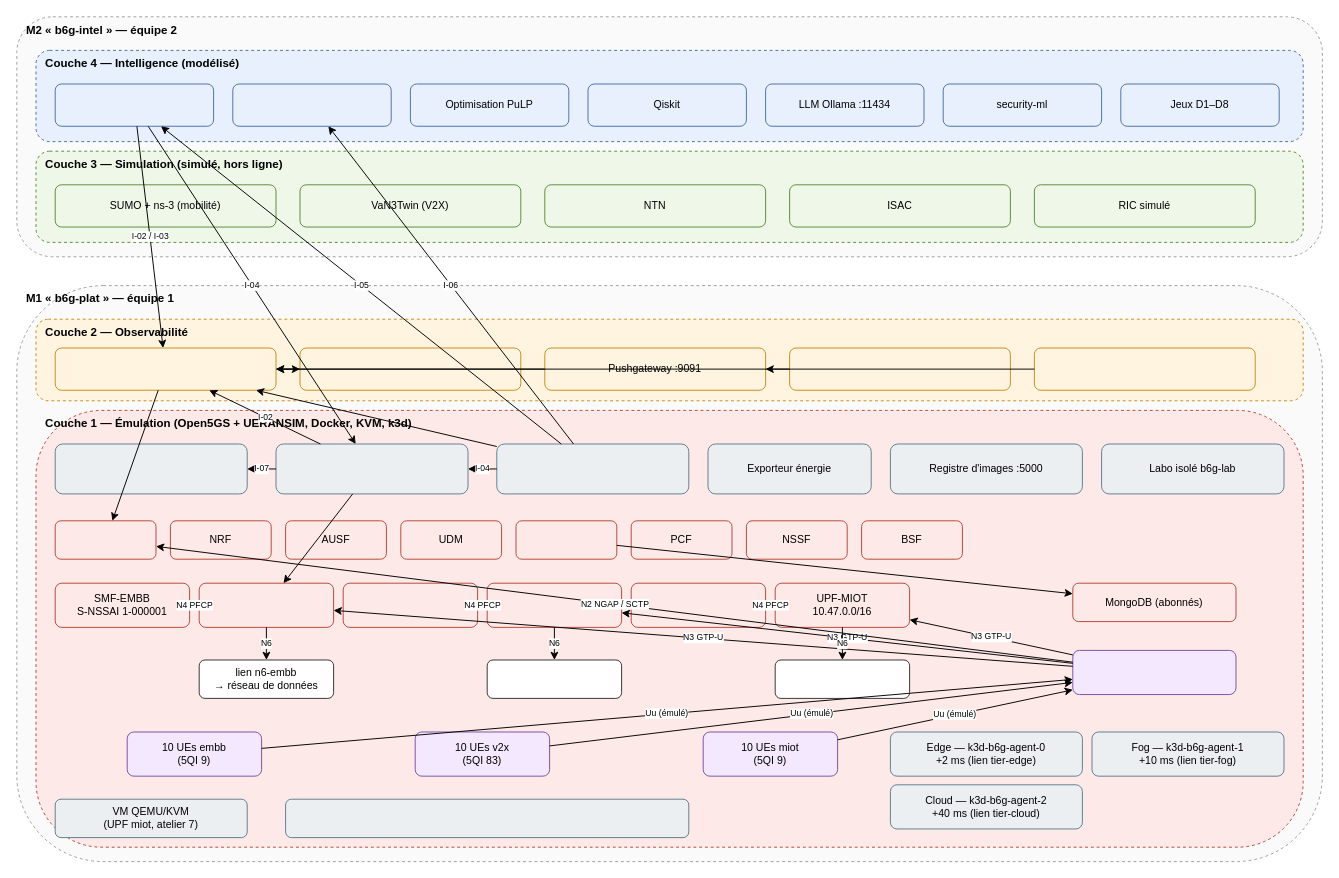
This 1339x878 diagram has some shape labels left out. The shapes that lost their labels are listed below. From the top down, each one's centre as x and y in pixels, then its label:
At (x=134, y=104): "API Décision :8090".
At (x=311, y=104): "API Jumeau :8091".
At (x=165, y=368): "Prometheus :9090".
At (x=410, y=368): "Grafana :3000".
At (x=899, y=368): "Sondes trafficgen (latence, perte)".
At (x=1144, y=368): "cAdvisor".
At (x=150, y=468): "Registre (Fabric) :8082".
At (x=371, y=468): "Actionneur :8081 tc · docker · kubectl".
At (x=592, y=468): "Boucle MAPE-K (slice-autoscaler v0)".
At (x=105, y=539): "AMF".
At (x=566, y=539): "UDR".
At (x=266, y=604): "UPF-EMBB 10.45.0.0/16".
At (x=410, y=604): "SMF-V2X S-NSSAI 4-000004".
At (x=554, y=604): "UPF-V2X 10.46.0.0/16".
At (x=698, y=604): "SMF-MIOT S-NSSAI 3-000003".
At (x=554, y=678): "lien n6-v2x → réseau de données".
At (x=842, y=678): "lien n6-miot → réseau de données".
At (x=1154, y=672): "gNB UERANSIM (lien n2n3-gnb1)".
At (x=487, y=818): "Déploiements k3d : b6g-echo-app, b6g-edge-infer".
